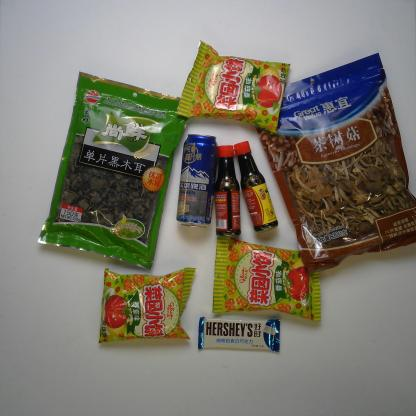Alcohol: (176, 133, 219, 228)
Chocolate: (196, 316, 284, 353)
Dried Food: (253, 51, 415, 273), (35, 70, 190, 272)
Puffed Food: (175, 39, 291, 137), (210, 236, 322, 324), (97, 267, 198, 346)
Seasoner: (232, 140, 279, 234), (214, 144, 242, 238)
